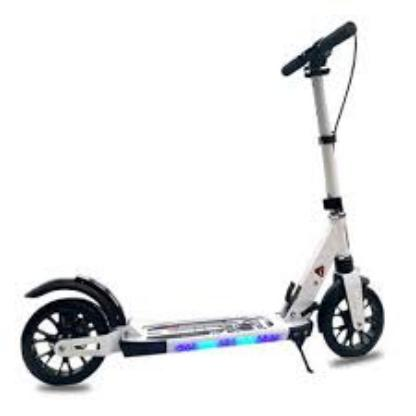bike: (0, 20, 385, 384), (17, 197, 385, 394)
